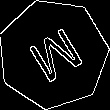M_SE: (20, 20, 87, 87)
